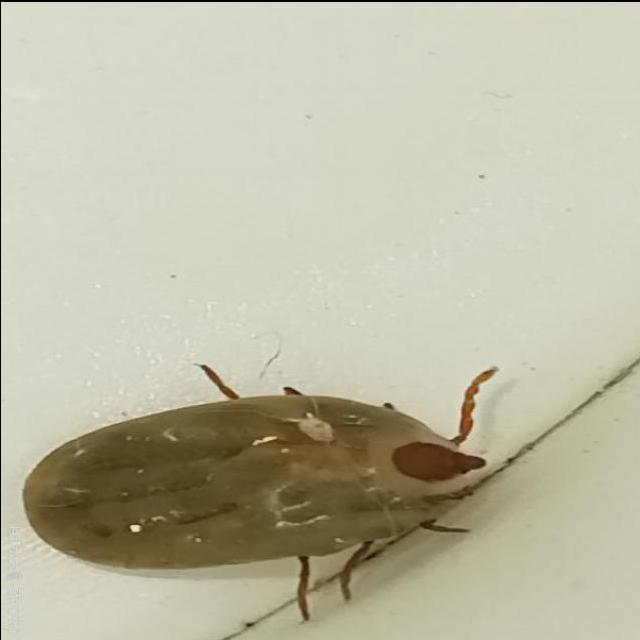Rhipicephalus Sanguineus-F-Fed: (20, 358, 515, 620)
